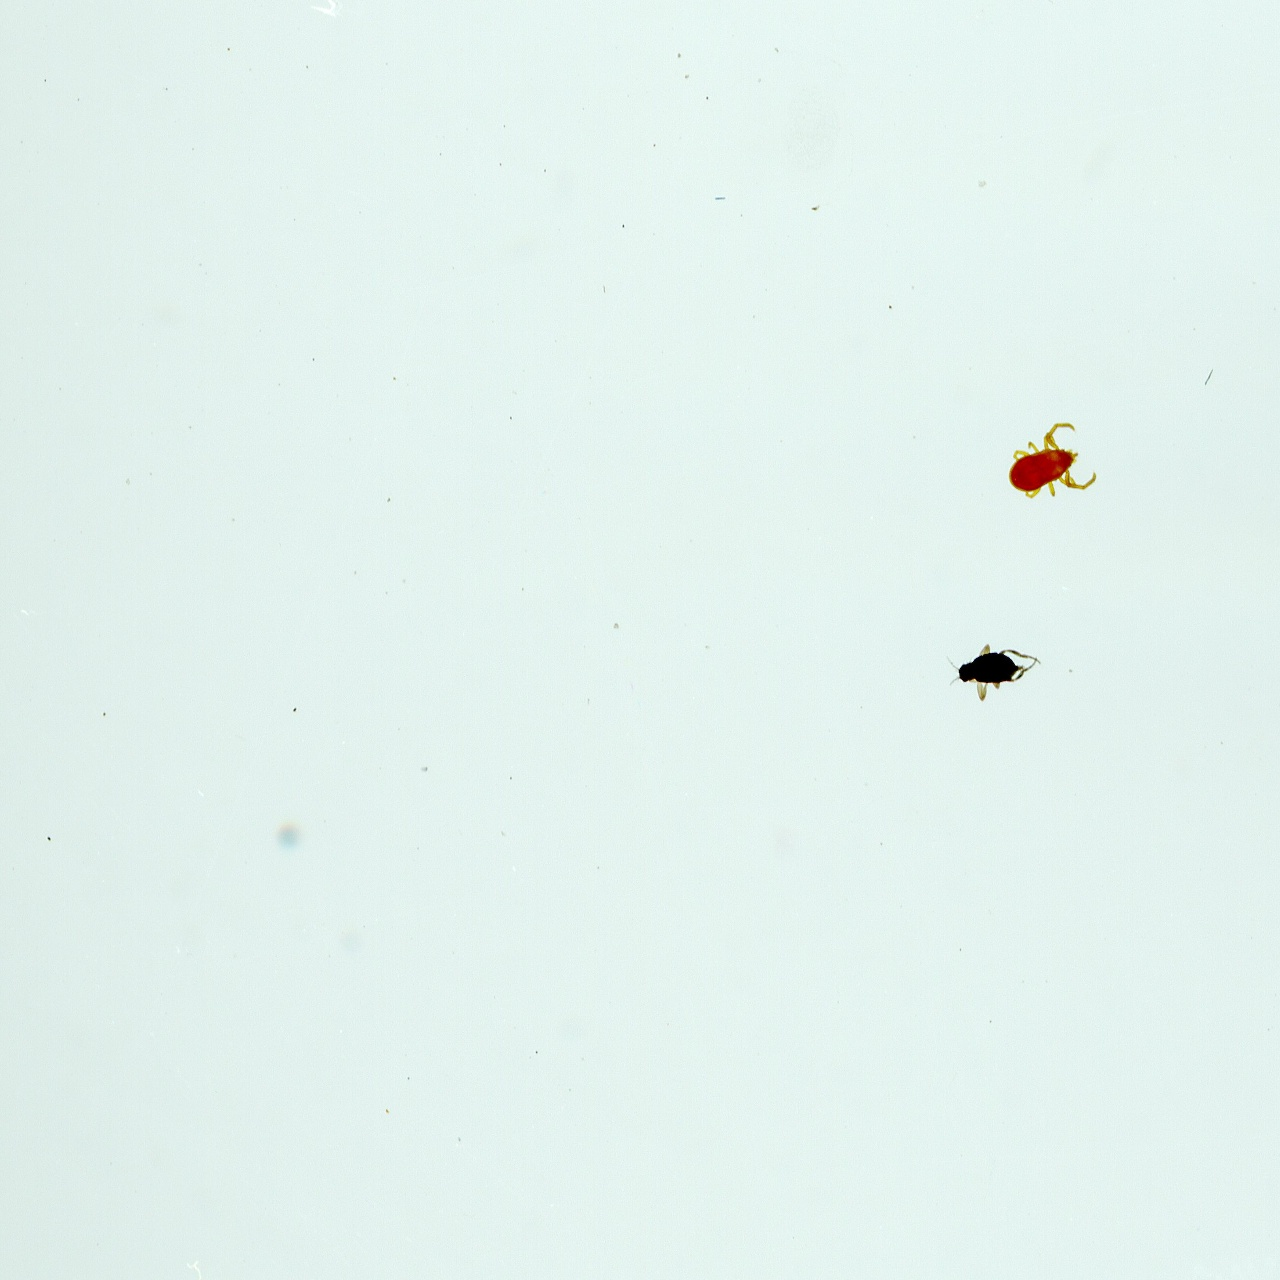arthropod: (988, 408, 1112, 527), (940, 641, 1044, 703)
